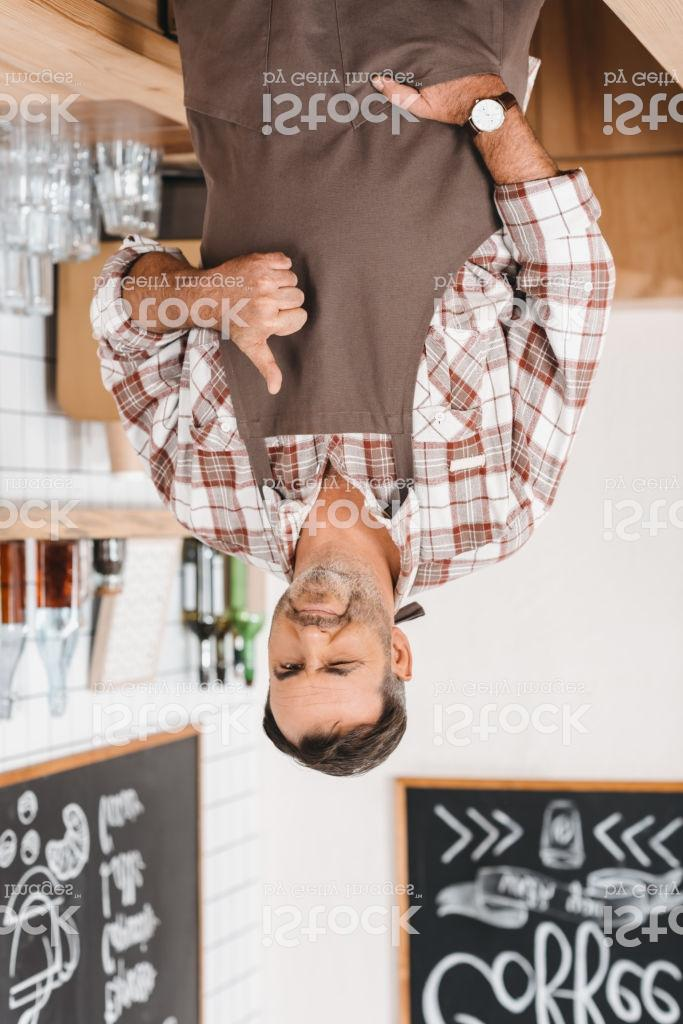thumbsdown: (223, 250, 310, 396)
